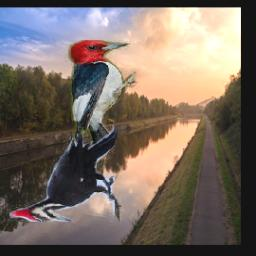Woodpecker: (9, 125, 121, 222), (64, 41, 140, 160)
